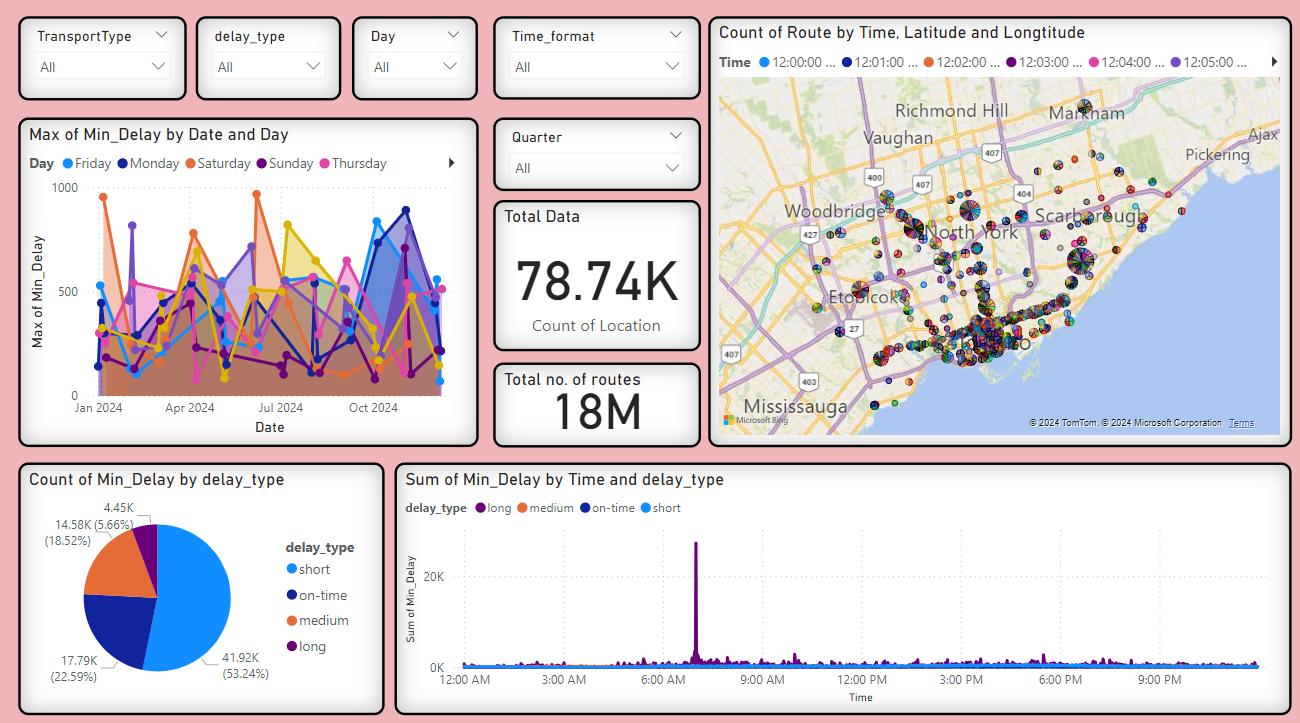

The dashboard page shown, as its layout file describes it:
{"tool":"powerbi","page":{"name":"Time","canvas":[1280,720],"ordinal":0},"visuals":[{"type":"slicer","fields":{"Values":["combined_ttc.TransportType"]},"box":[20.6,20.6,164.7,82.3],"z":0},{"type":"slicer","fields":{"Values":["combined_ttc.delay_type"]},"box":[194.9,20.6,142.7,82.3],"z":1000},{"type":"map","fields":{"Series":["combined_ttc.Time"],"Y":["combined_ttc.Latitude"],"X":["combined_ttc.Longtitude"],"Size":["CountNonNull(combined_ttc.Route)"]},"box":[695.7,20.6,570.8,421.3],"z":2000},{"type":"lineChart","fields":{"Y":["Sum(combined_ttc.Min_Delay)"],"Category":["combined_ttc.Time"],"Series":["combined_ttc.delay_type"]},"box":[388.9,457.3,878,247],"z":3000},{"type":"lineChart","fields":{"Y":["Max(combined_ttc.Min_Delay)"],"Series":["combined_ttc.Day"],"Category":["combined_ttc.Date"]},"box":[20.6,119.4,450.1,322.5],"z":4000},{"type":"slicer","fields":{"Values":["combined_ttc.Day"]},"box":[347.2,20.6,123.5,82.3],"z":5000},{"type":"pieChart","fields":{"Y":["CountNonNull(combined_ttc.Min_Delay)"],"Category":["combined_ttc.delay_type"]},"box":[20.6,456.9,358.1,247],"z":6000},{"type":"card","title":"Total no. of routes","fields":{"Values":["Sum(combined_ttc.Route)"]},"box":[485.5,359.5,203,83.2],"z":7000},{"type":"card","title":"Total Data","fields":{"Values":["CountNonNull(combined_ttc.Route)"]},"box":[485.5,200.5,203,148],"z":8000},{"type":"slicer","fields":{"Values":["combined_ttc.Time_format"]},"box":[485.5,20.8,203,81.9],"z":9000},{"type":"slicer","fields":{"Values":["combined_ttc.Date.Variation.Date Hierarchy.Quarter"]},"box":[485.5,119.8,203,72.1],"z":10000}]}

Visuals, with their boxes in screenshot pixels (x1, y1, x2, y2), scaled from the page's 1280x720 canvas onto the 1300x723 screenshot:
slicer - combined_ttc.TransportType: 21, 21, 188, 103
slicer - combined_ttc.delay_type: 198, 21, 343, 103
map - combined_ttc.Time x combined_ttc.Latitude: 707, 21, 1286, 444
lineChart - Sum(combined_ttc.Min_Delay) x combined_ttc.Time: 395, 459, 1287, 707
lineChart - Max(combined_ttc.Min_Delay) x combined_ttc.Day: 21, 120, 478, 444
slicer - combined_ttc.Day: 353, 21, 478, 103
pieChart - CountNonNull(combined_ttc.Min_Delay) x combined_ttc.delay_type: 21, 459, 385, 707
"Total no. of routes" card: 493, 361, 699, 445
"Total Data" card: 493, 201, 699, 350
slicer - combined_ttc.Time_format: 493, 21, 699, 103
slicer - combined_ttc.Date.Variation.Date Hierarchy.Quarter: 493, 120, 699, 193
